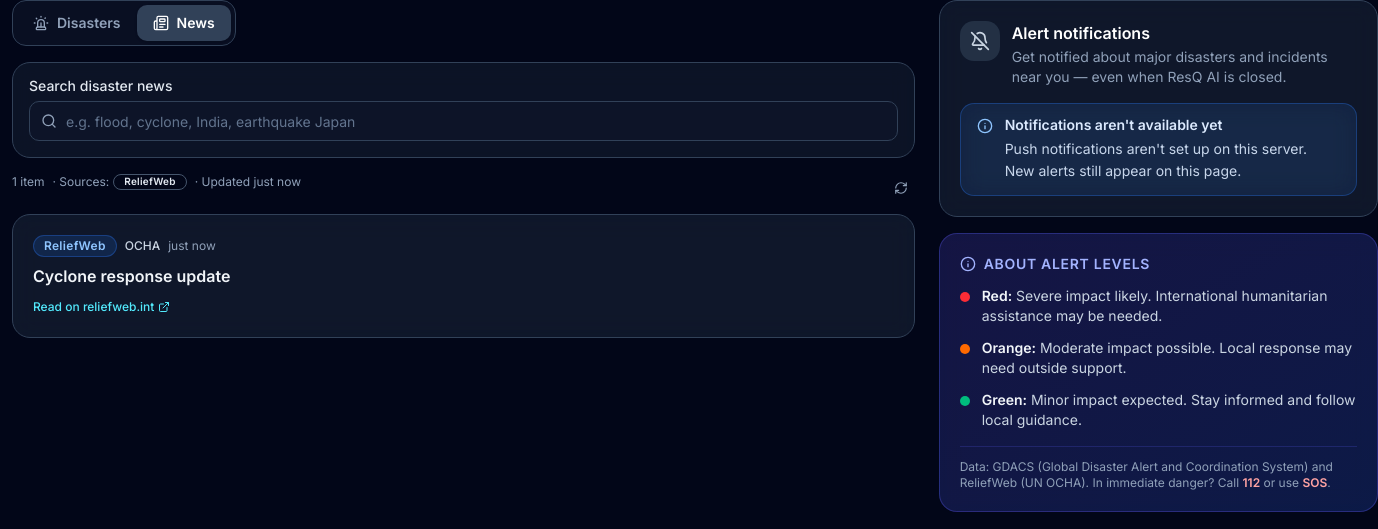
Test: AlertsView › honours ?tab=news and keeps the URL in sync when switching tabs
Later steps or results of the test are not shown.
Expected: the link "Cyclone response update" is shown, [33,266,230,286]
Click the tab "Disasters" at (77, 23), box [17,5,136,41]
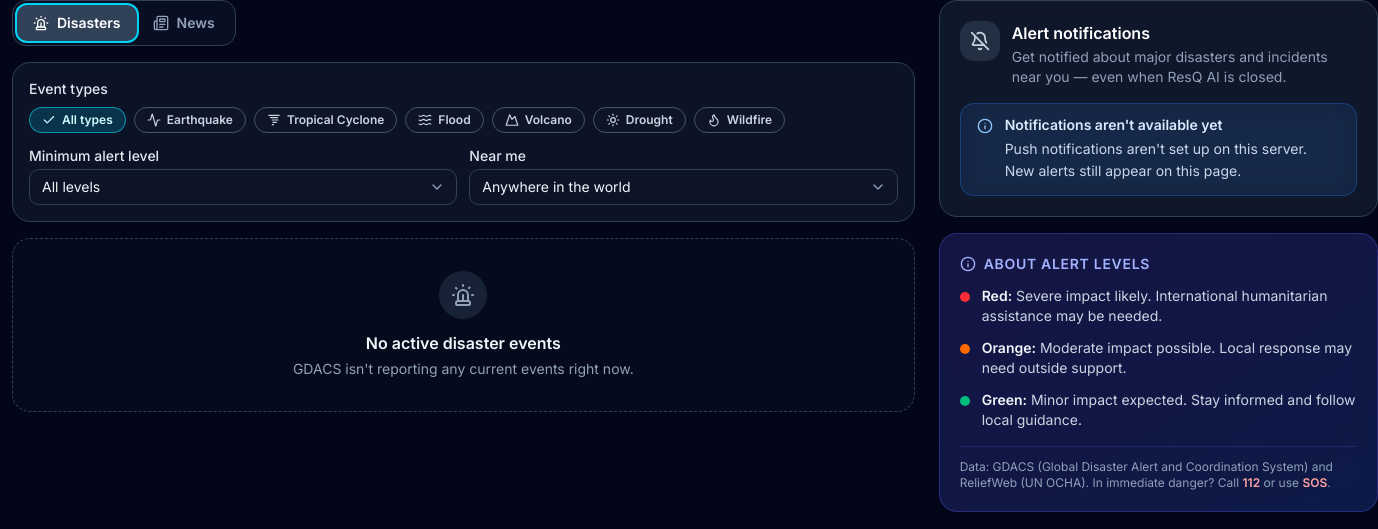
Expected: the text "No active disaster events" is shown, [366,333,561,353]
